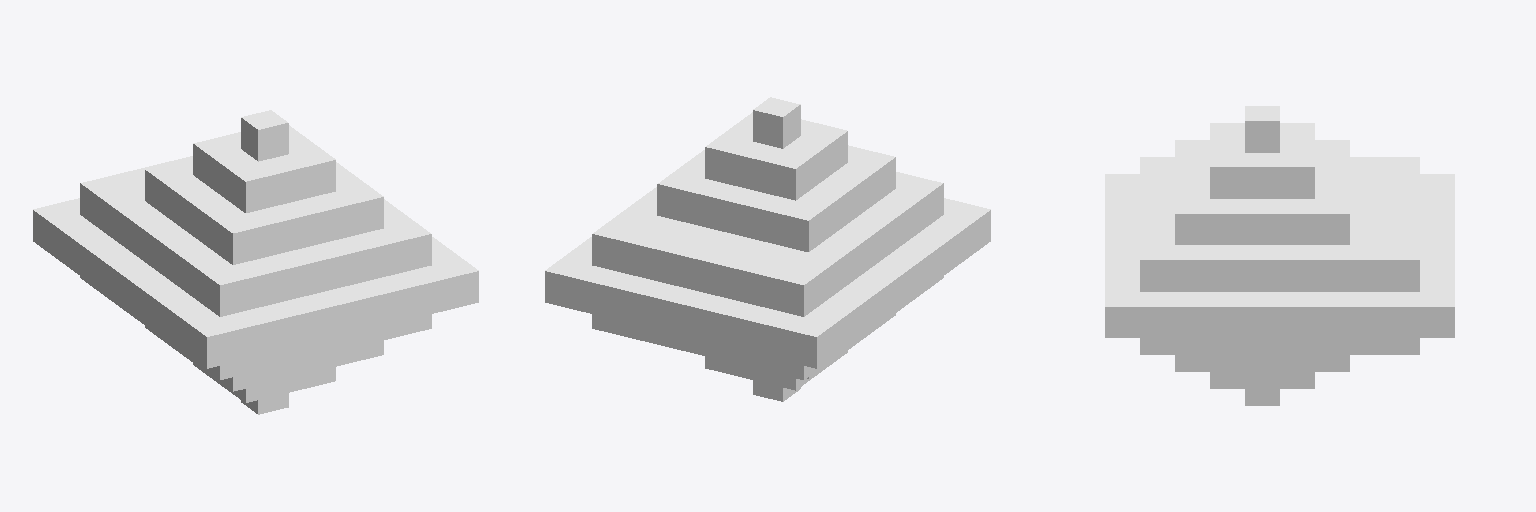
The model's file is bushtower-0.obj.
3 views of the same model, side by side, from view 1: azimuth 30°, elevation 25°; view 2: azimuth 150°, elevation 25°; view 3: azimuth 270°, elevation 25° (orthographic).
Visible parts, largest first — view 1: object 1; view 2: object 1; view 3: object 1.
Boxes of the visible parts, box(x1,y1,x2,y2) form: object 1: box(33, 110, 478, 414); object 1: box(545, 97, 990, 401); object 1: box(1105, 106, 1454, 405).
Size of the model in its own units: 0.9 by 0.9 by 1.